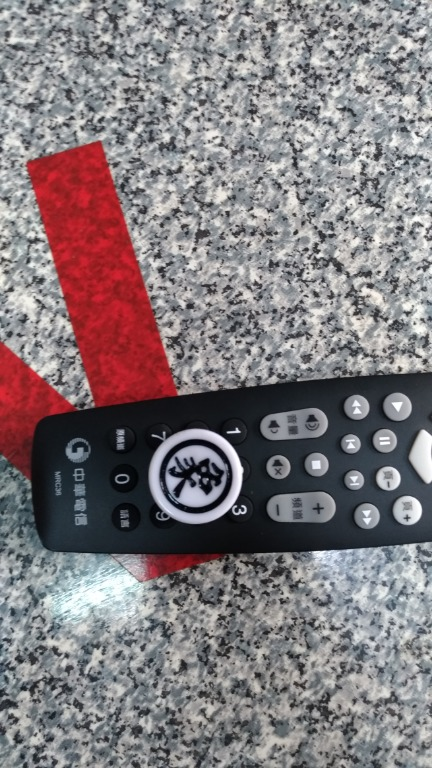b-elephant: (135, 408, 262, 531)
